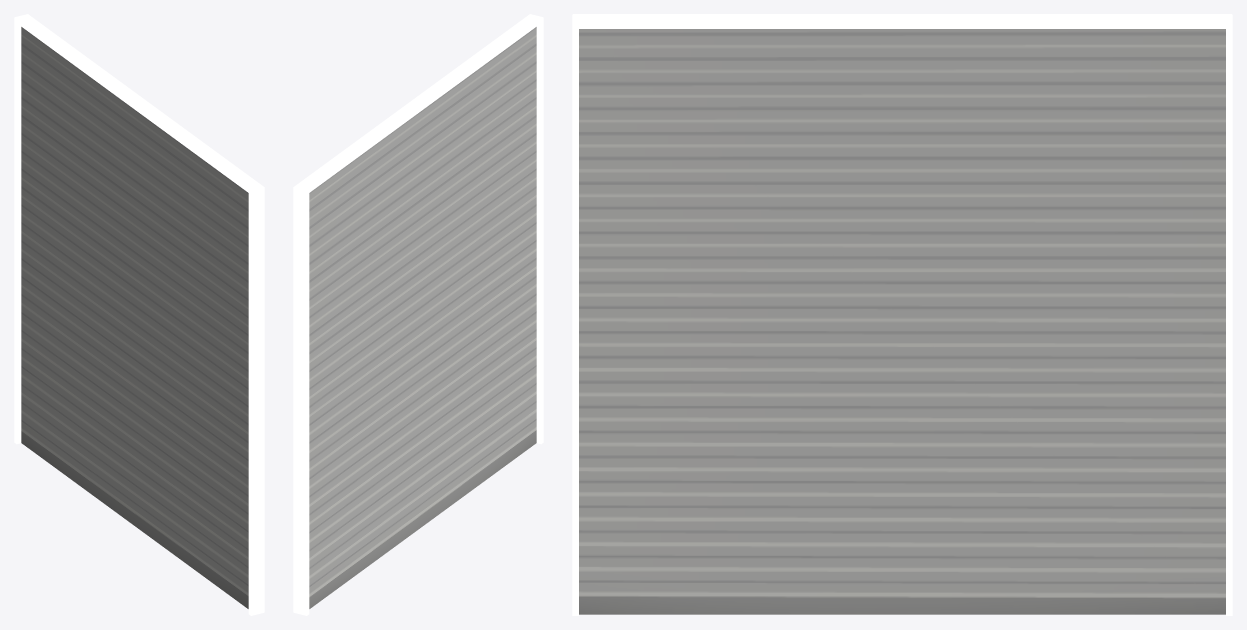
Rendered from standard_door22.d84e2696.gltf.
3 views of the same model, side by side, from view 1: azimuth 30°, elevation 25°; view 2: azimuth 150°, elevation 25°; view 3: azimuth 270°, elevation 25° (orthographic). The views are drawn at different scales.
Visible parts, largest first — view 1: Doors, trims; view 2: Doors, trims; view 3: Doors, trims.
Part boxes in pixels (x1,y1,x2,y2): Doors: (21, 27, 248, 608); trims: (14, 14, 264, 615); Doors: (309, 27, 536, 608); trims: (293, 14, 543, 615); Doors: (579, 29, 1225, 614); trims: (572, 14, 1232, 615).
Size of the model in its own units: 0.2 by 6.01 by 6.07.
2 materials, 1 textured.
